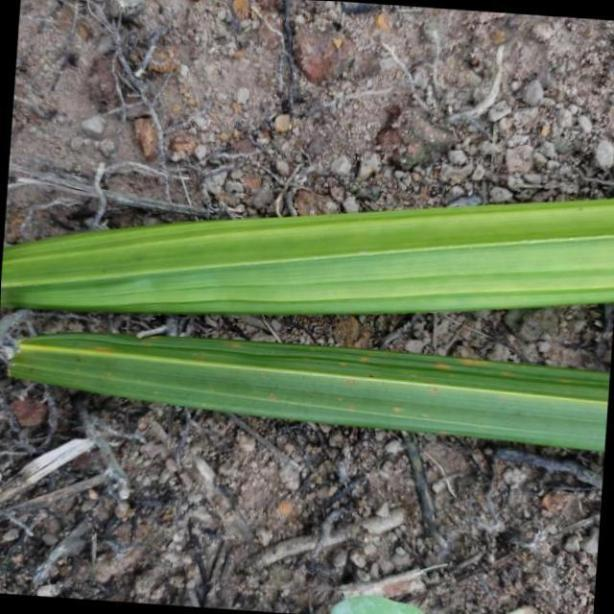nitrogen: (0, 195, 614, 318), (5, 334, 614, 457)
